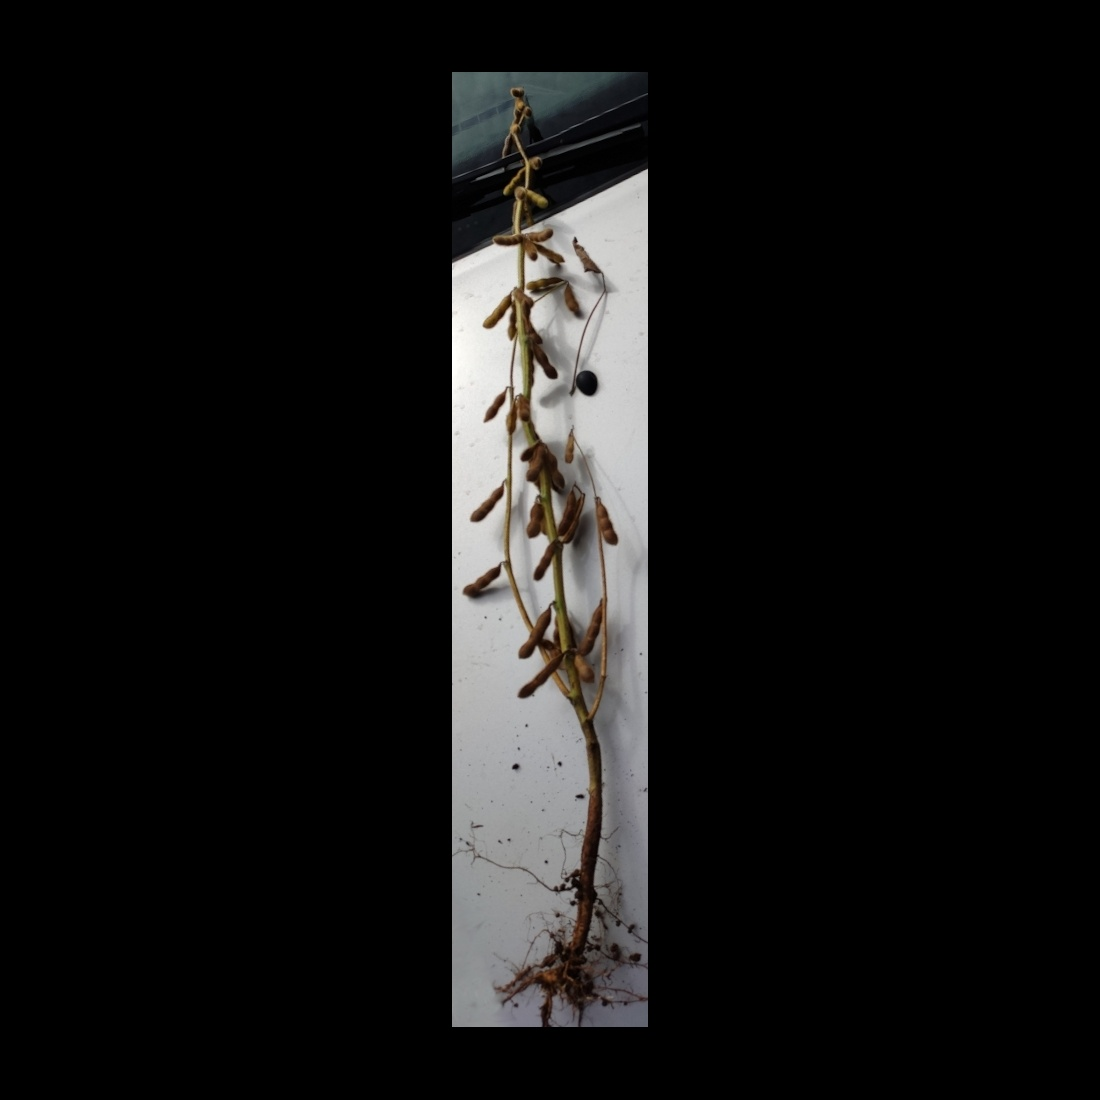pod: (513, 658, 565, 703), (514, 605, 553, 661), (468, 480, 506, 526), (458, 565, 504, 597), (578, 601, 603, 657), (532, 340, 561, 383), (482, 291, 512, 331), (598, 497, 621, 546), (531, 541, 555, 585), (482, 387, 508, 425), (524, 498, 544, 539), (522, 276, 565, 292), (523, 188, 549, 211), (491, 233, 525, 248)
soy: (457, 80, 639, 993)
